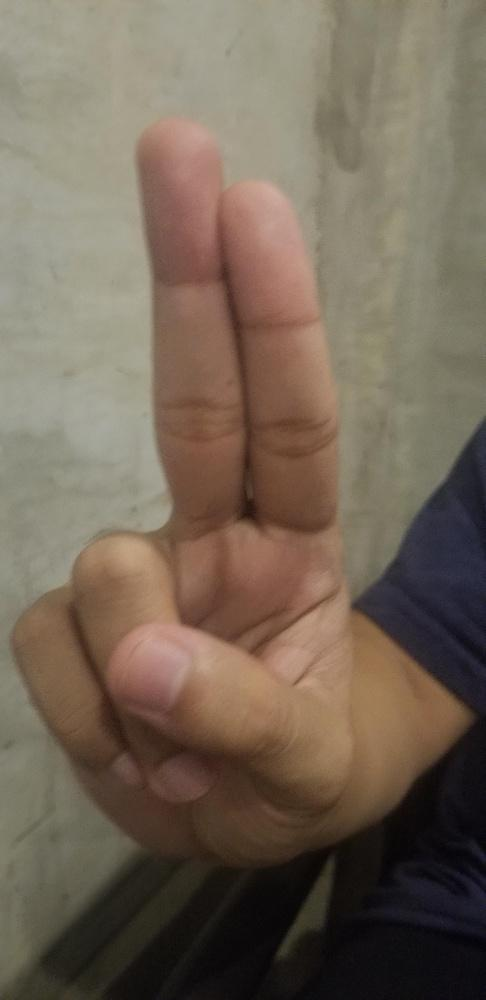u: (6, 116, 356, 861)
